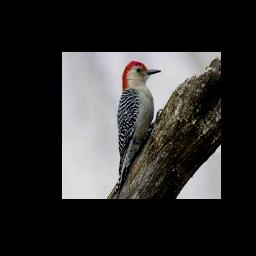Woodpecker: (109, 61, 161, 198)
